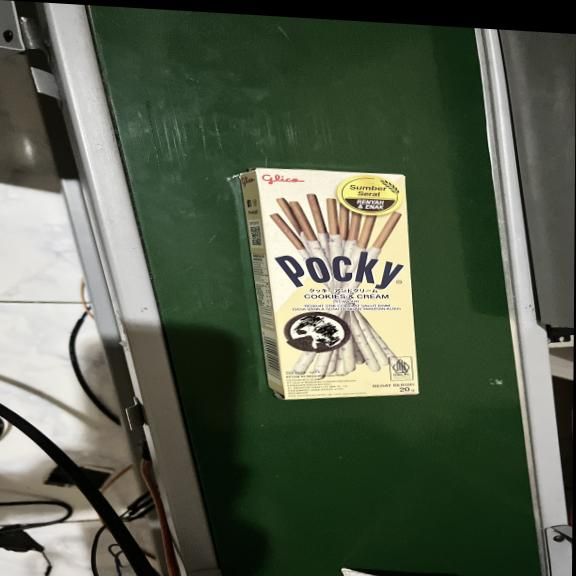Kertas: (251, 168, 423, 410)
